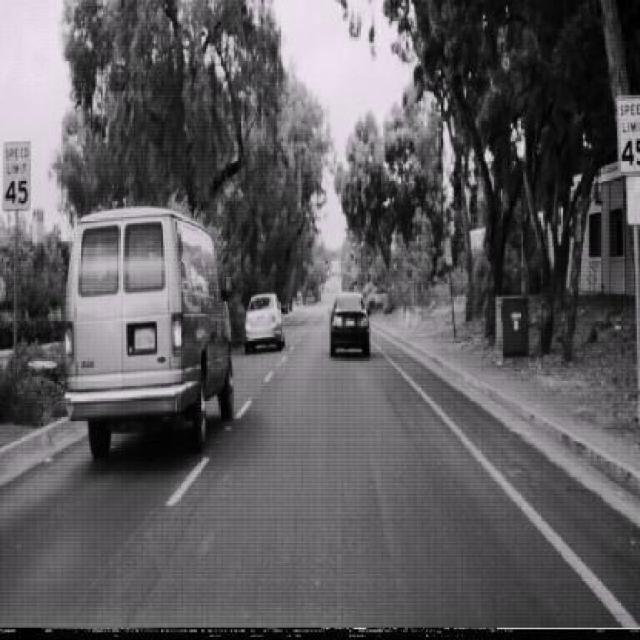speedLimit45: (0, 137, 32, 211)
